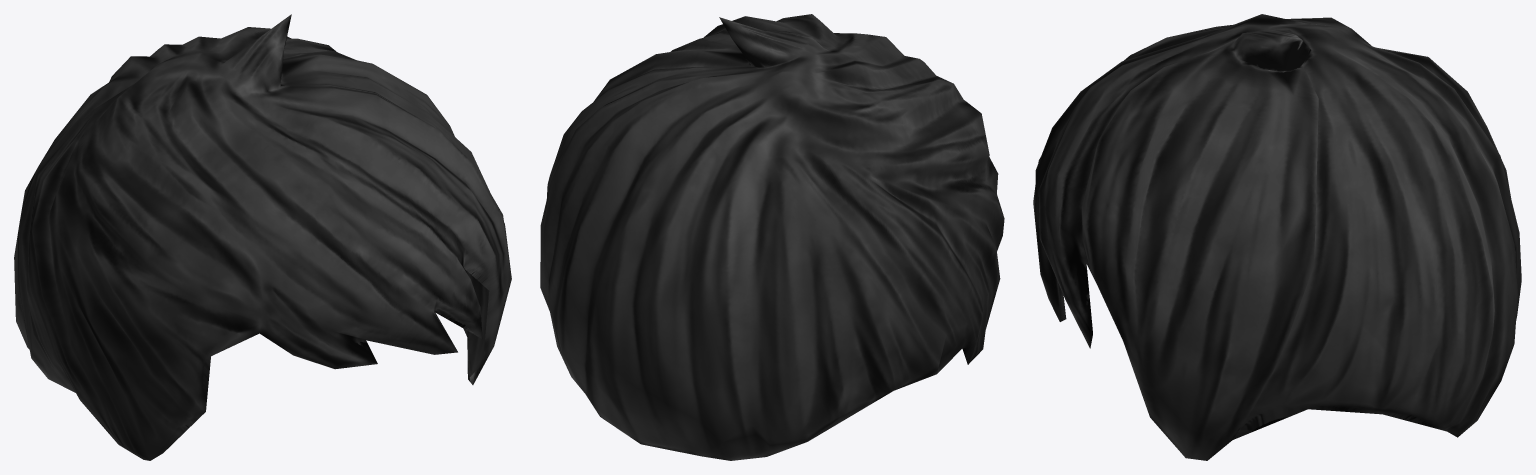
The model's file is AF_M_hair_25.fbx.
The picture shows the model from 3 angles, left to right: view 1: azimuth 30°, elevation 25°; view 2: azimuth 150°, elevation 25°; view 3: azimuth 270°, elevation 25°; orthographic projection. The views are drawn at different scales.
Parts seen in each view (by area): view 1: AF_M_hair_25; view 2: AF_M_hair_25; view 3: AF_M_hair_25.
Boxes of the visible parts, x1,y1,x2,y2 form: AF_M_hair_25: (14, 14, 511, 460); AF_M_hair_25: (540, 14, 1004, 460); AF_M_hair_25: (1033, 14, 1521, 460).
Bounding box in the file's own units: 712 × 621 × 718.
